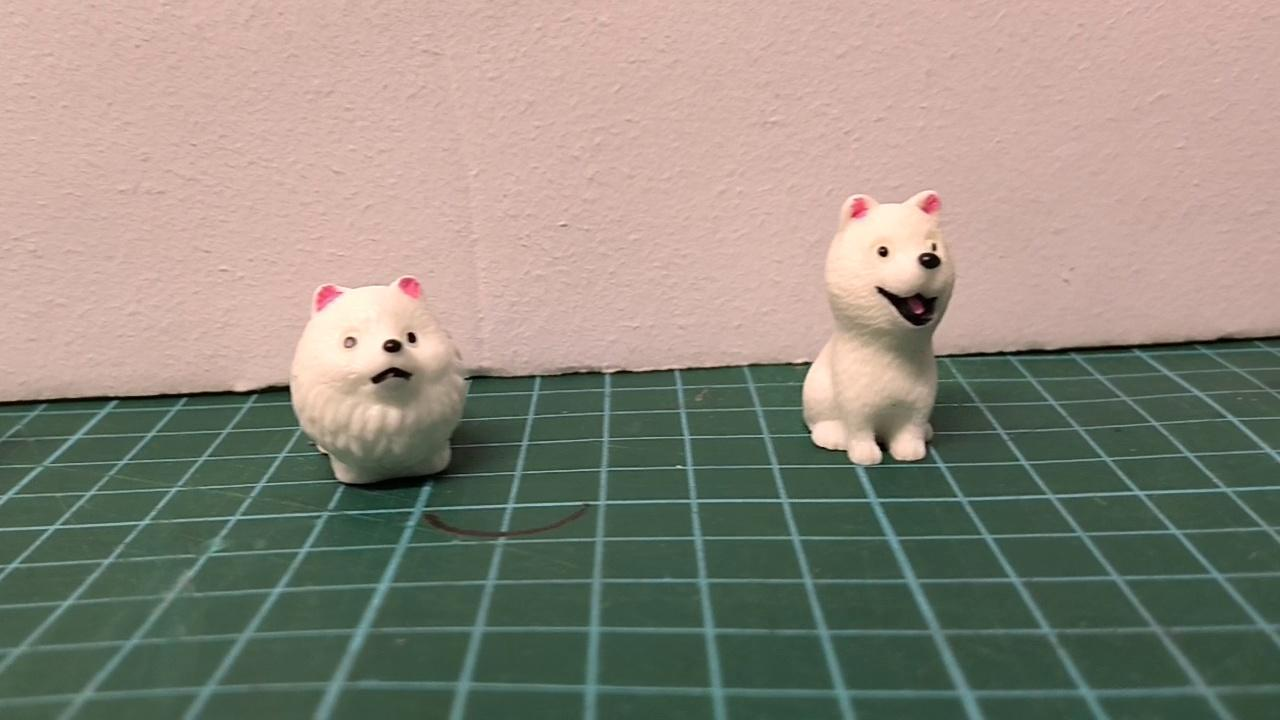pet: (793, 184, 960, 468), (284, 272, 476, 492)
